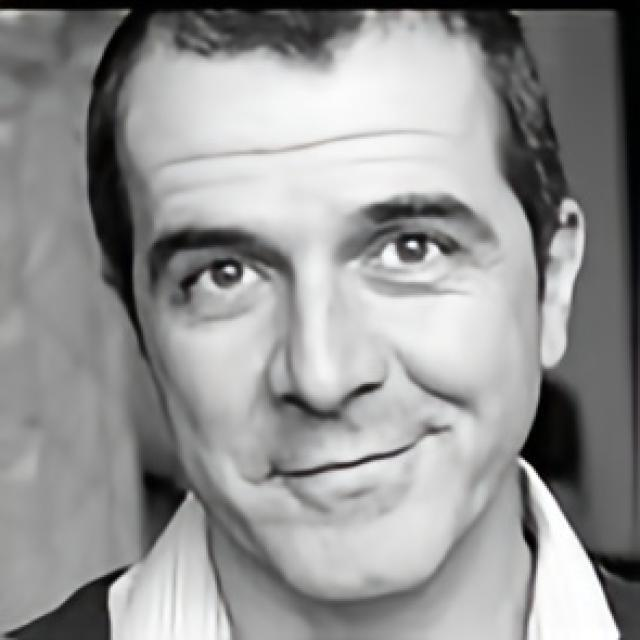content: (111, 10, 538, 602)
